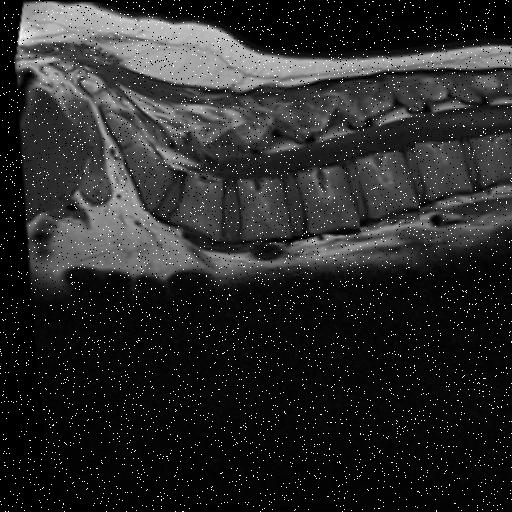L1: (411, 139, 467, 198)
L2: (352, 149, 412, 216)
L3: (292, 166, 353, 232)
L4: (232, 178, 285, 239)
L5: (167, 177, 217, 238)
S1: (118, 137, 172, 210)
